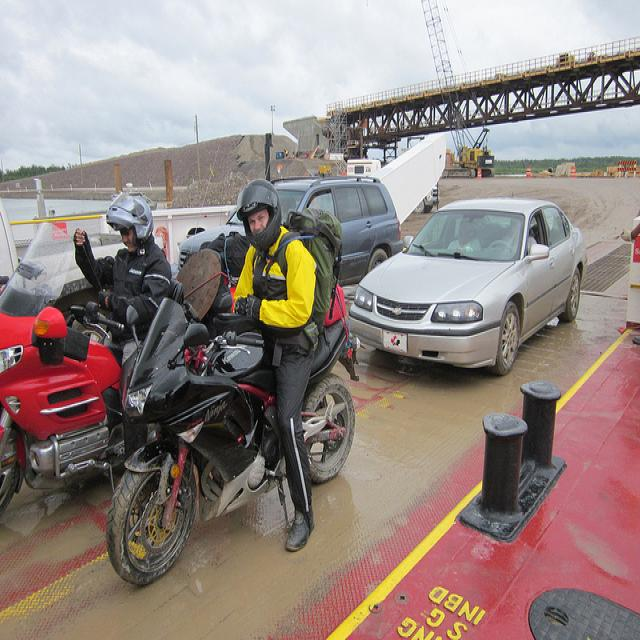motor: (109, 297, 359, 588), (2, 219, 155, 510)
